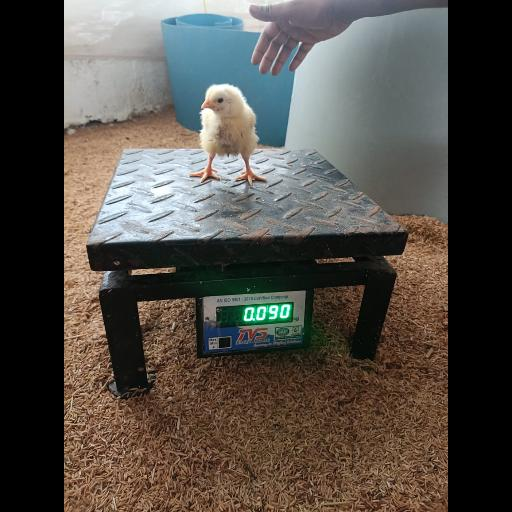chick: (190, 84, 267, 187)
